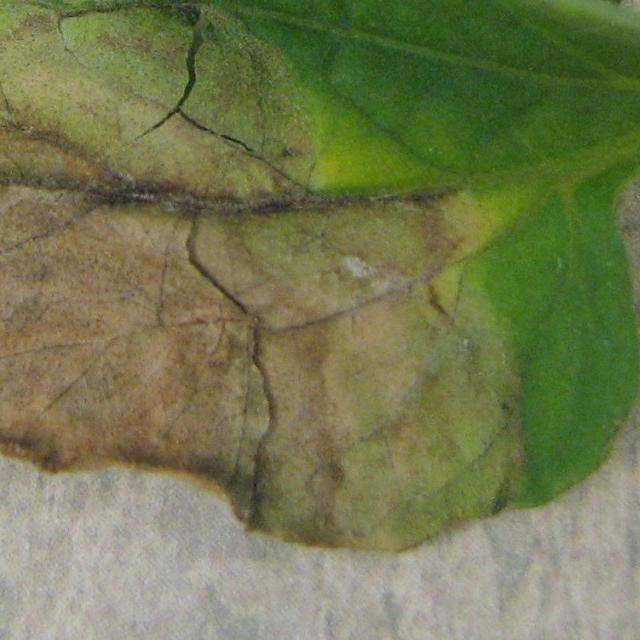Tomato leaf late blight: (0, 0, 640, 607)
